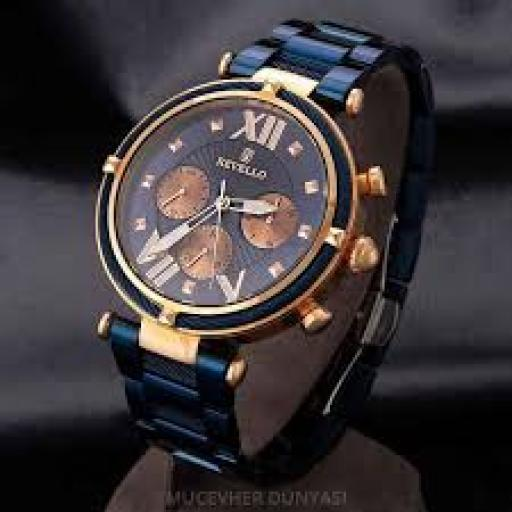KolSaati: (59, 8, 464, 494)
